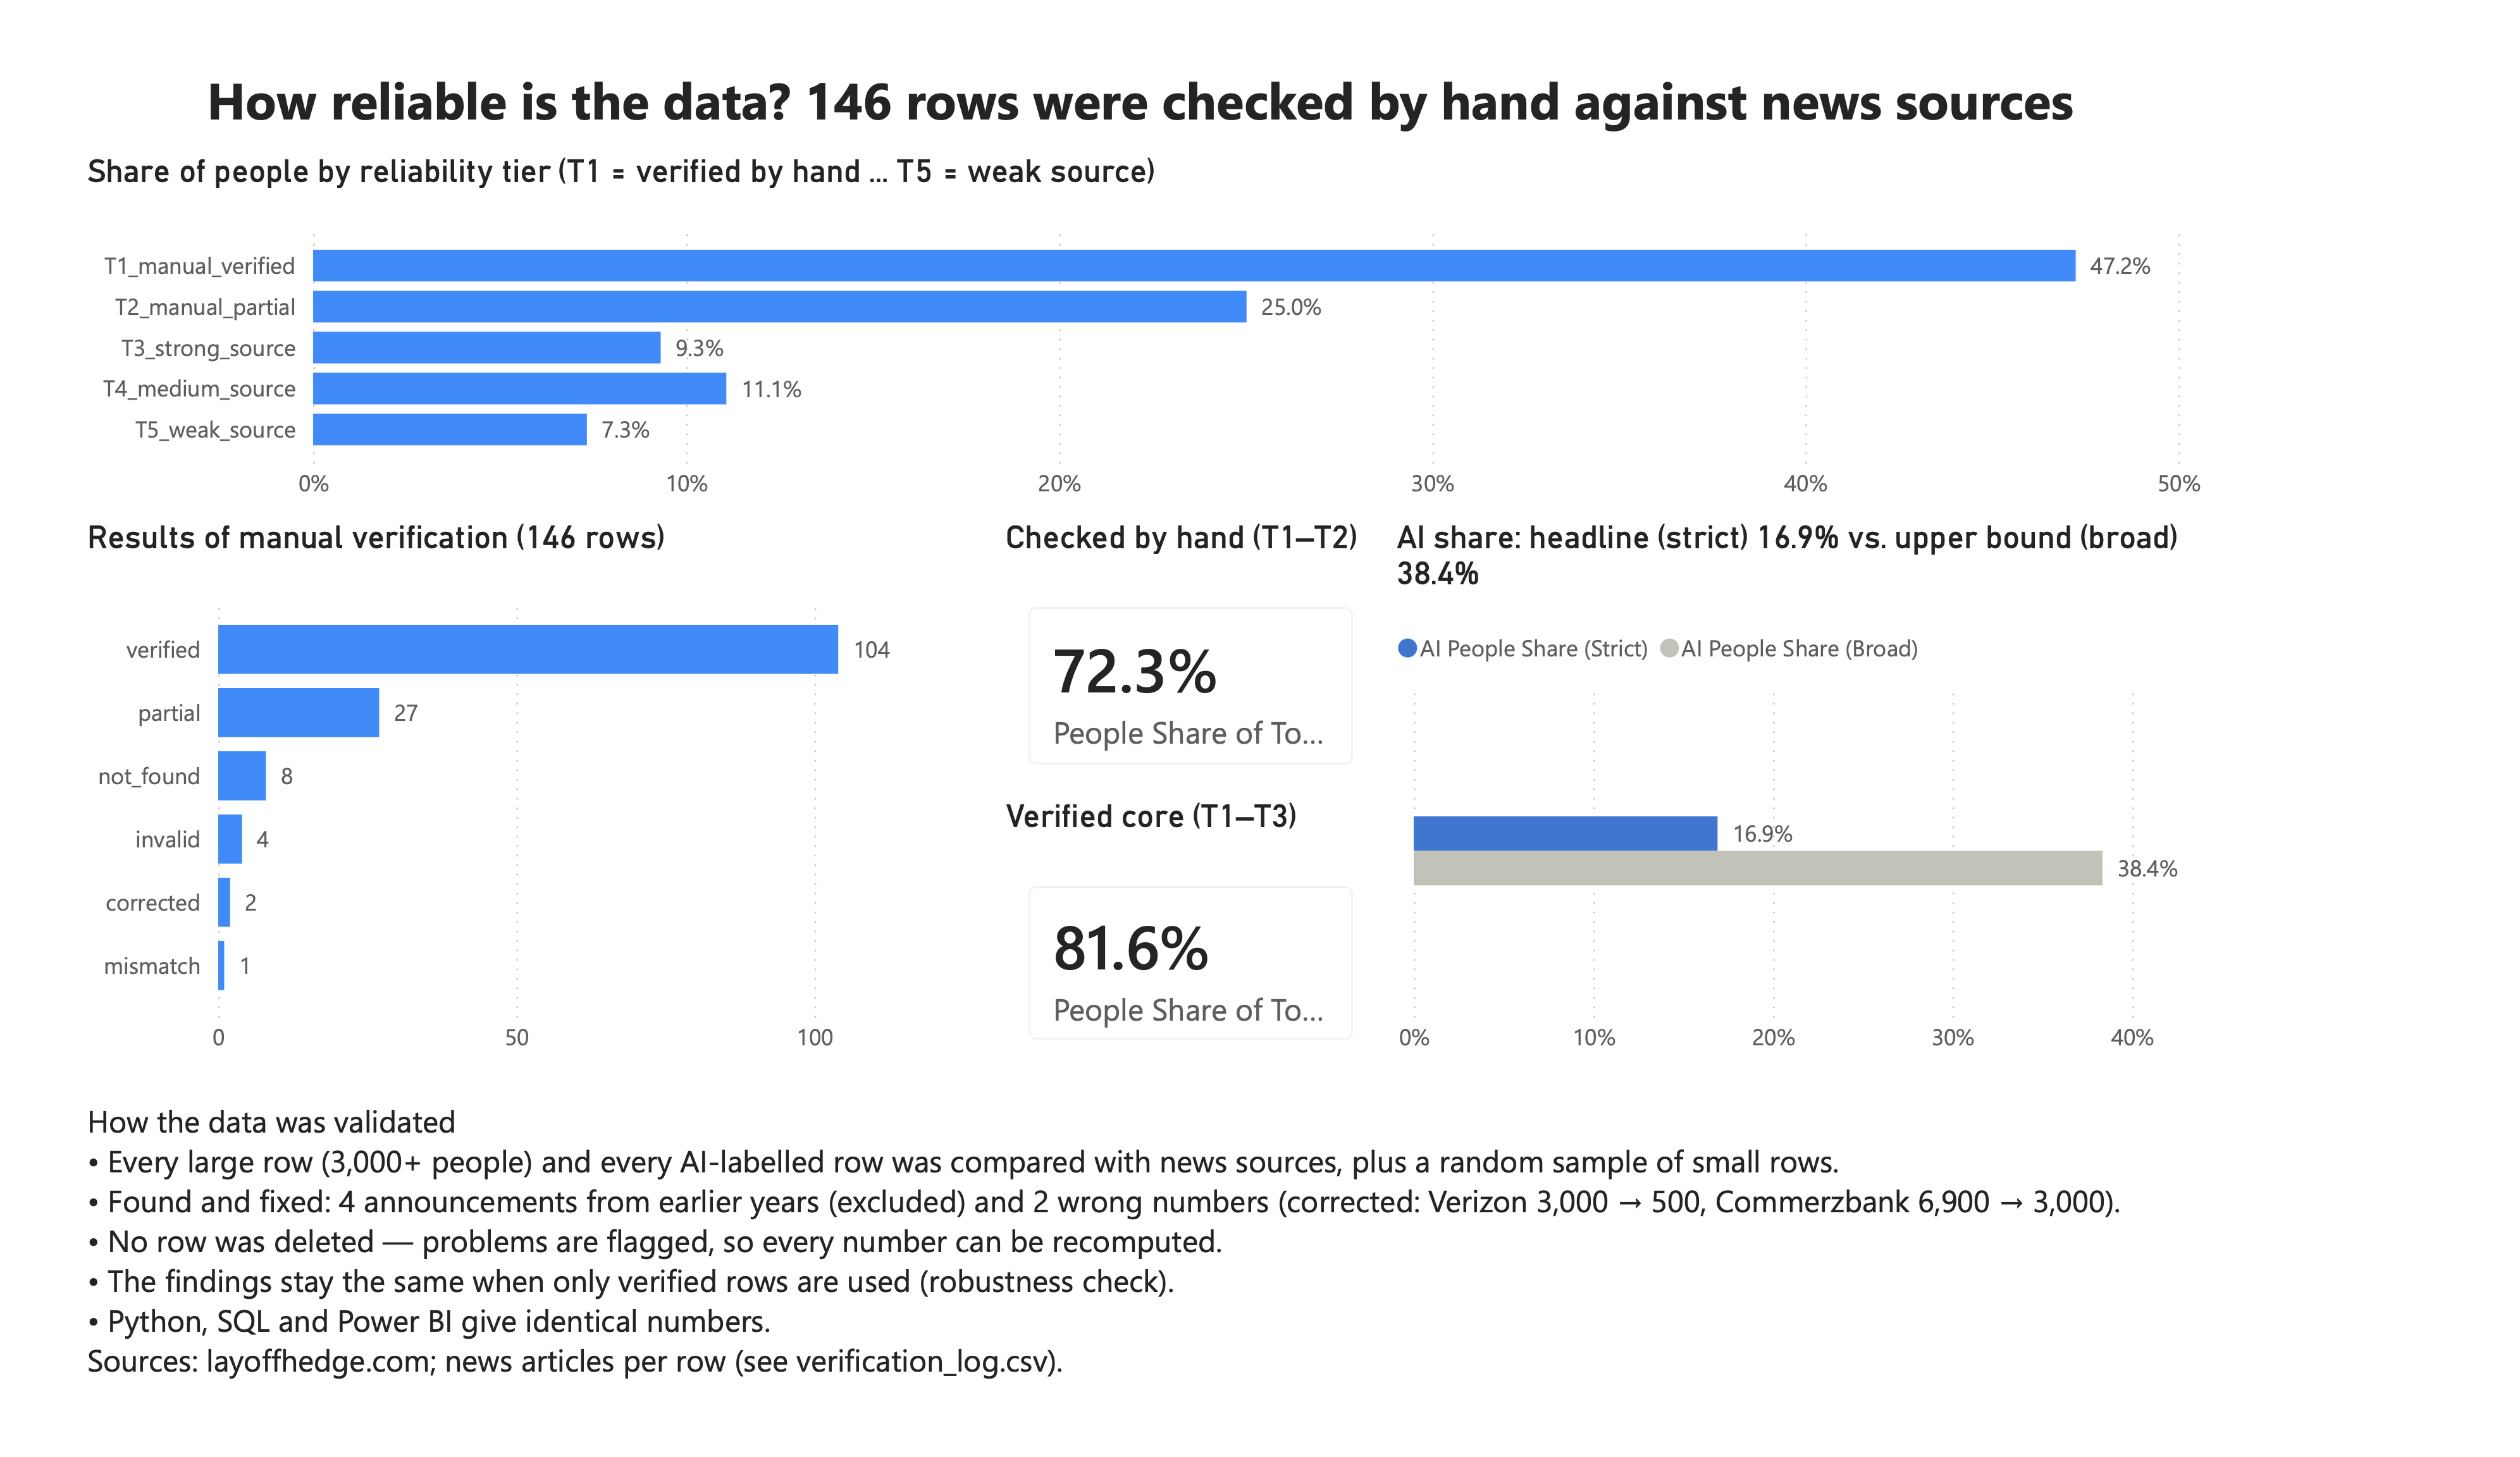

What the dashboard file says about the page in this screenshot:
{"tool":"powerbi","page":{"name":"Data Reliability","canvas":[1280,720],"ordinal":3},"visuals":[{"type":"textbox","box":[79.9,5.5,1009,50.9],"z":0},{"type":"clusteredBarChart","title":"Share of people by reliability tier (T1 = verified by hand … T5 = weak source)","fields":{"Category":["fact_layoffs.reliability_tier"],"Y":["_Measures.People Share of Total"]},"box":[17.2,56.4,1124.1,192.7],"z":1000},{"type":"cardVisual","title":"Checked by hand (T1–T2)","fields":{"Data":["_Measures.People Share of Total"]},"box":[500.6,249.1,205.2,146.5],"z":2000},{"type":"cardVisual","title":"Verified core (T1–T3)","fields":{"Data":["_Measures.People Share of Total"]},"box":[500.6,395.6,205.2,145.7],"z":3000},{"type":"clusteredBarChart","title":"Results of manual verification (146 rows)","fields":{"Category":["fact_layoffs.verification"],"Y":["CountNonNull(fact_layoffs.layoff_id)"]},"box":[17.2,249.1,466.1,292.2],"z":4000},{"type":"clusteredBarChart","title":"AI share: headline (strict) 16.9% vs. upper bound (broad) 38.4%","fields":{"Y":["_Measures.AI People Share (Strict)","_Measures.AI People Share (Broad)"]},"box":[706.6,249.1,434.8,292.2],"z":5000},{"type":"textbox","box":[17.2,550.7,1251.8,161.4],"z":6000}]}

Visuals, with their boxes in screenshot pixels (x1, y1, x2, y2), scaled from the page's 1280x720 canvas onto the 2520x1457 screenshot:
textbox: pyautogui.locateOnScreen(157, 11, 2144, 114)
"Share of people by reliability tier (T1 = verified by hand … T5 = weak source)" clusteredBarChart: pyautogui.locateOnScreen(34, 114, 2247, 504)
"Checked by hand (T1–T2)" cardVisual: pyautogui.locateOnScreen(985, 504, 1390, 801)
"Verified core (T1–T3)" cardVisual: pyautogui.locateOnScreen(985, 801, 1390, 1095)
"Results of manual verification (146 rows)" clusteredBarChart: pyautogui.locateOnScreen(34, 504, 951, 1095)
"AI share: headline (strict) 16.9% vs. upper bound (broad) 38.4%" clusteredBarChart: pyautogui.locateOnScreen(1391, 504, 2247, 1095)
textbox: pyautogui.locateOnScreen(34, 1114, 2498, 1441)
